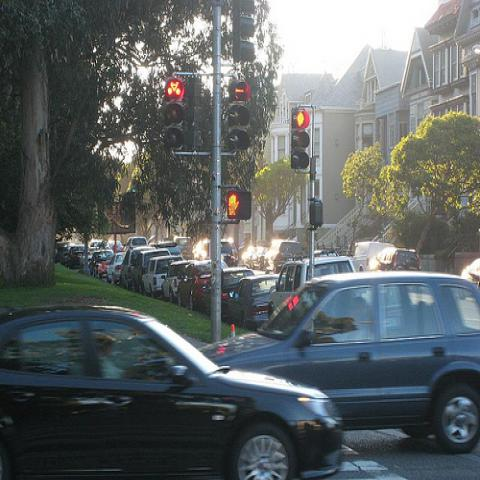car: (2, 303, 346, 479), (197, 268, 479, 453), (68, 248, 255, 316), (268, 255, 356, 314), (224, 273, 281, 332), (177, 260, 229, 310), (118, 244, 156, 292), (133, 248, 172, 294), (142, 254, 184, 296), (369, 246, 422, 270), (192, 271, 212, 314), (90, 249, 114, 281), (123, 236, 149, 252)
